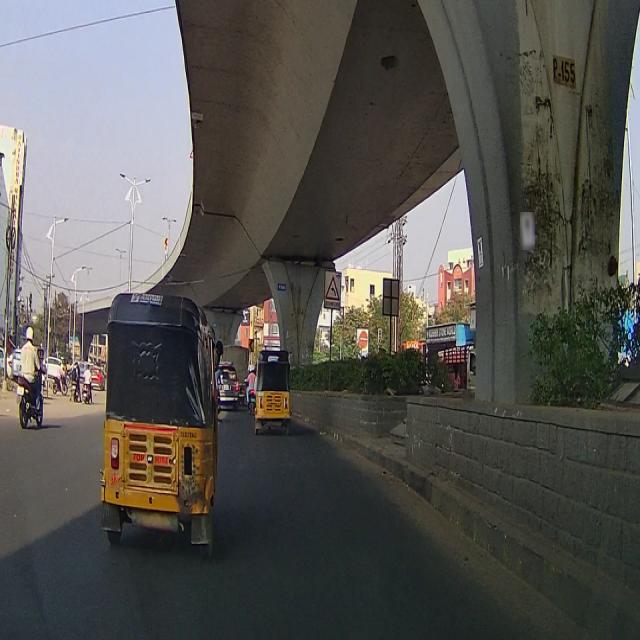left-hand-curve: (324, 270, 341, 308)
